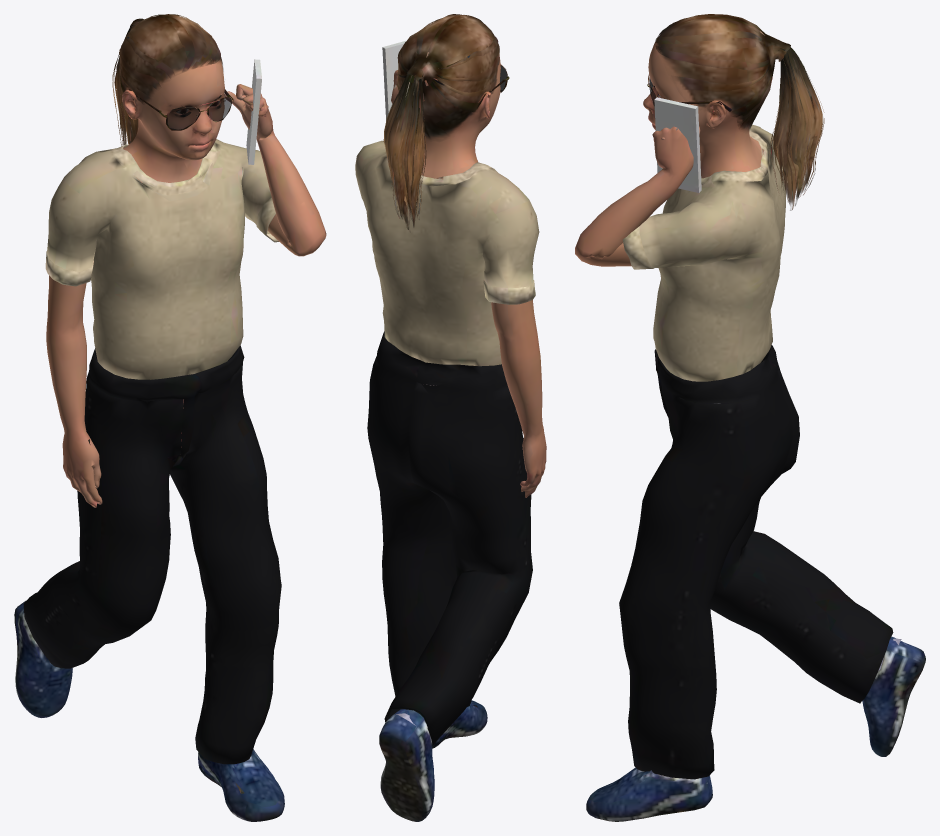
3 renders of one model, left to right at view 1: azimuth 30°, elevation 25°; view 2: azimuth 150°, elevation 25°; view 3: azimuth 270°, elevation 25°, orthographic. The views are drawn at different scales.
Visible parts, largest first — view 1: p04278; view 2: p04278; view 3: p04278.
Part boxes in pixels (x1=…): p04278: x1=14, y1=14, x2=326, y2=821; p04278: x1=355, y1=14, x2=546, y2=821; p04278: x1=575, y1=14, x2=925, y2=821.
Size of the model in its own units: 0.3763 by 1.34 by 0.5449.
Materials: 1 (1 with a texture image).
